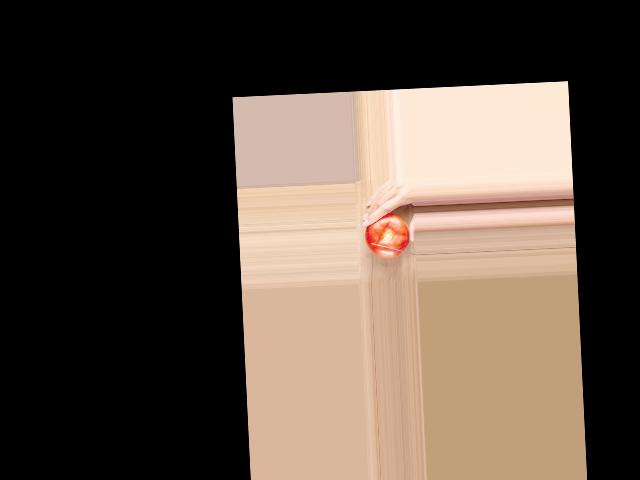tomato: (364, 212, 410, 259)
